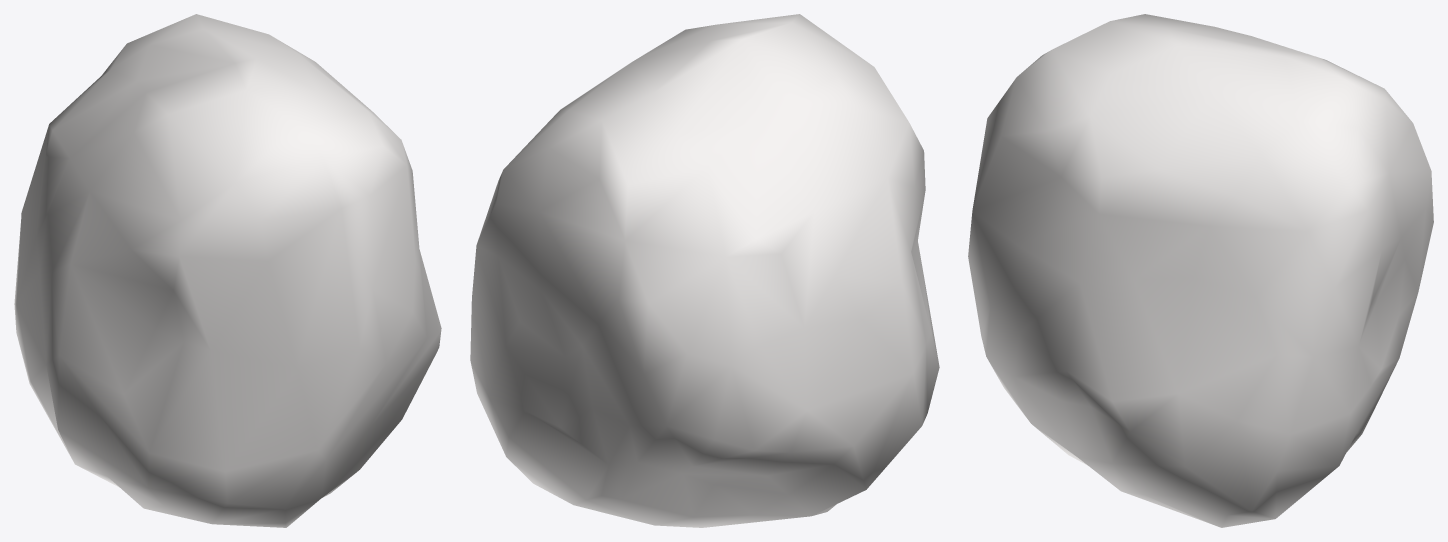
Rendered from Snow_002.fbx.
3 views of the same model, side by side, from view 1: azimuth 30°, elevation 25°; view 2: azimuth 150°, elevation 25°; view 3: azimuth 270°, elevation 25° (orthographic). The views are drawn at different scales.
Visible parts, largest first — view 1: Snow_002; view 2: Snow_002; view 3: Snow_002.
Part boxes in pixels (x1,y1,x2,y2): Snow_002: [14, 14, 441, 527]; Snow_002: [470, 14, 939, 527]; Snow_002: [968, 14, 1433, 527].
Size of the model in its own units: 1.09 by 1.27 by 1.16.
